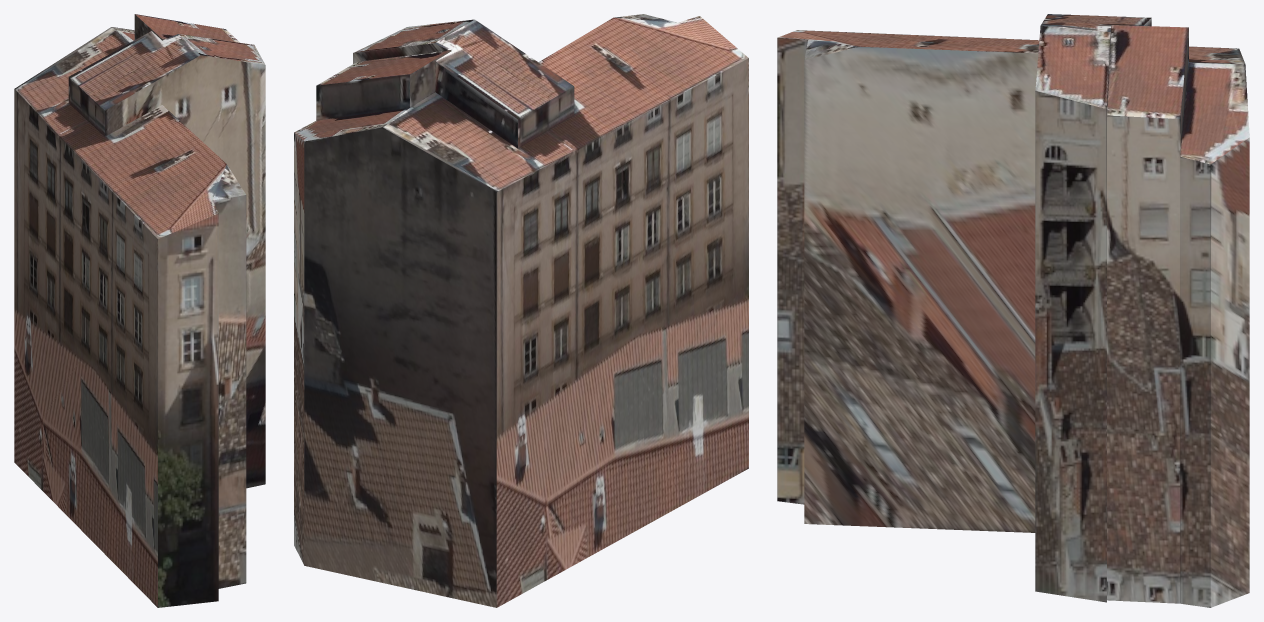
3 renders of one model, left to right at view 1: azimuth 30°, elevation 25°; view 2: azimuth 150°, elevation 25°; view 3: azimuth 270°, elevation 25°, orthographic. The views are drawn at different scales.
Parts seen in each view (by area): view 1: Z_UP; view 2: Z_UP; view 3: Z_UP.
Part boxes in pixels (x1,y1,x2,y2): Z_UP: [14, 14, 265, 607]; Z_UP: [294, 14, 748, 607]; Z_UP: [777, 14, 1249, 607].
Size of the model in its own units: 17.06 by 30.64 by 24.8.
Materials: 2 (1 with a texture image).
